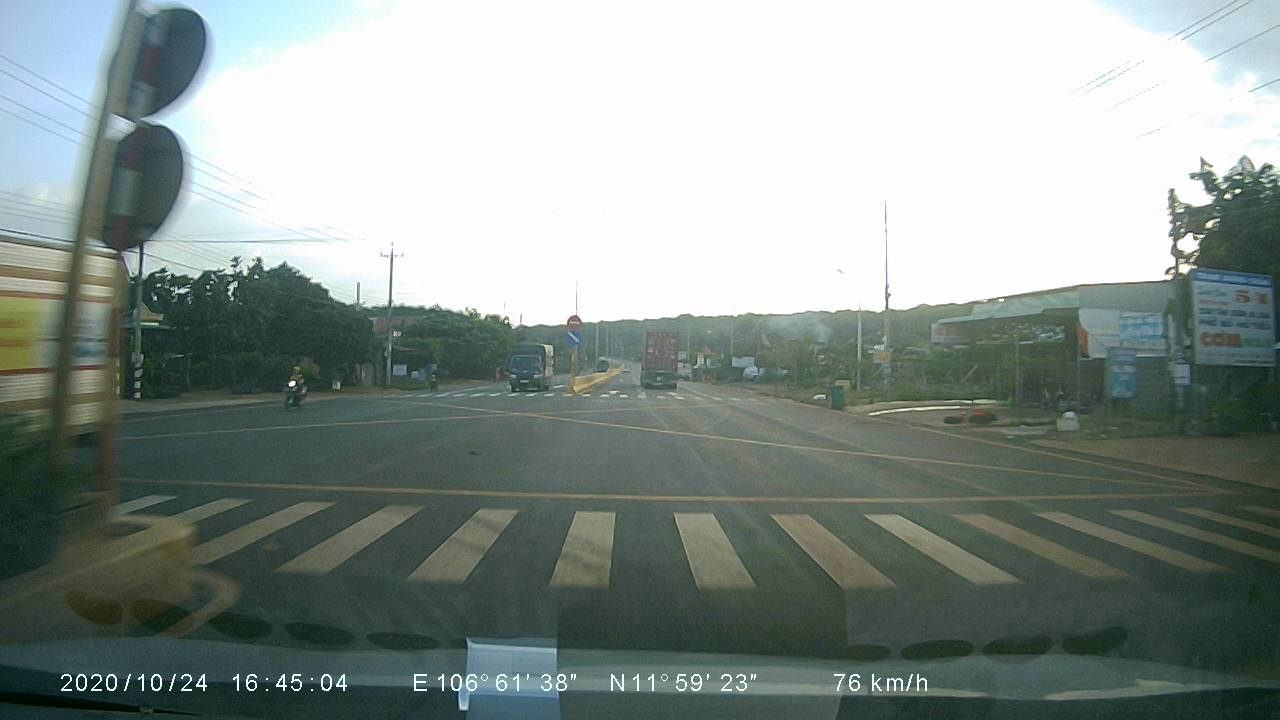Cam di nguoc chieu: (562, 310, 582, 333)
Huong di phai re phai: (562, 330, 586, 346)
